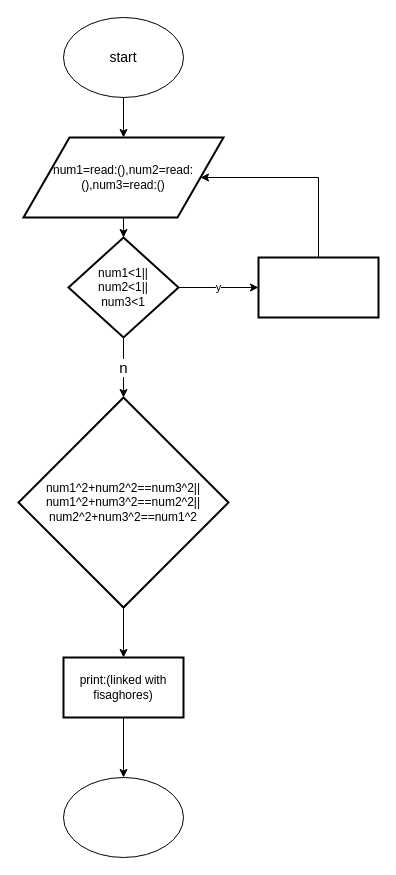
The diagram is 396 pixels wide and 875 high, and some of its shapes have lost their labels. Here are the shapes that lost their labels. From the top down, the centre of each, then its label:
the point at 318,287: print:(try again)
the point at 123,817: end
